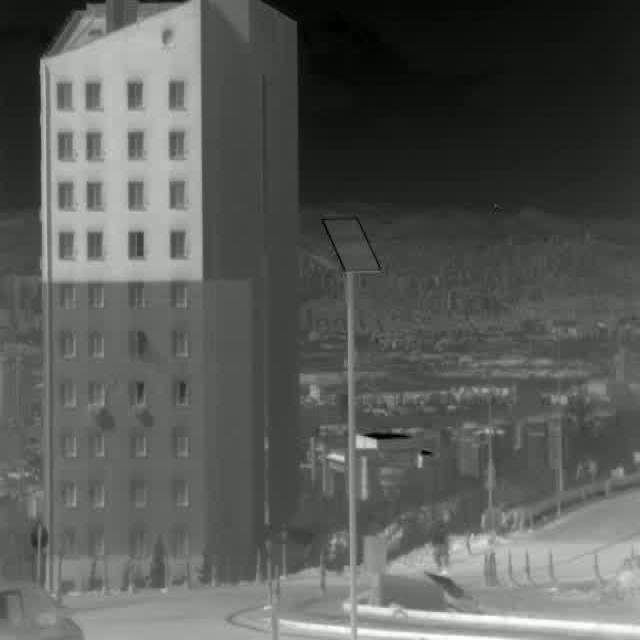Car: (0, 577, 82, 640), (430, 517, 452, 572)
